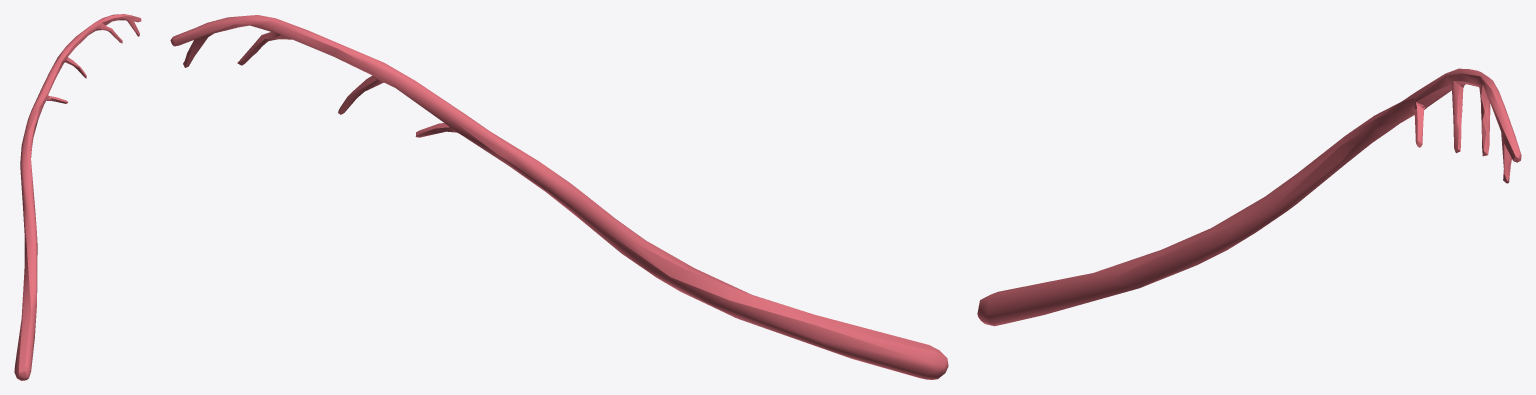
Rendered from fma14756_fj3472.glb.
3 renders of one model, left to right at view 1: azimuth 30°, elevation 25°; view 2: azimuth 150°, elevation 25°; view 3: azimuth 270°, elevation 25°, orthographic. The views are drawn at different scales.
Visible parts, largest first — view 1: FMA14756_FJ3472; view 2: FMA14756_FJ3472; view 3: FMA14756_FJ3472.
Part boxes in pixels (left/top/right/bottom): FMA14756_FJ3472: left=14, top=14, right=141, bottom=380; FMA14756_FJ3472: left=170, top=15, right=948, bottom=379; FMA14756_FJ3472: left=977, top=68, right=1521, bottom=326.
Bounding box in the file's own units: 0.0497 × 0.041 × 0.0457.
